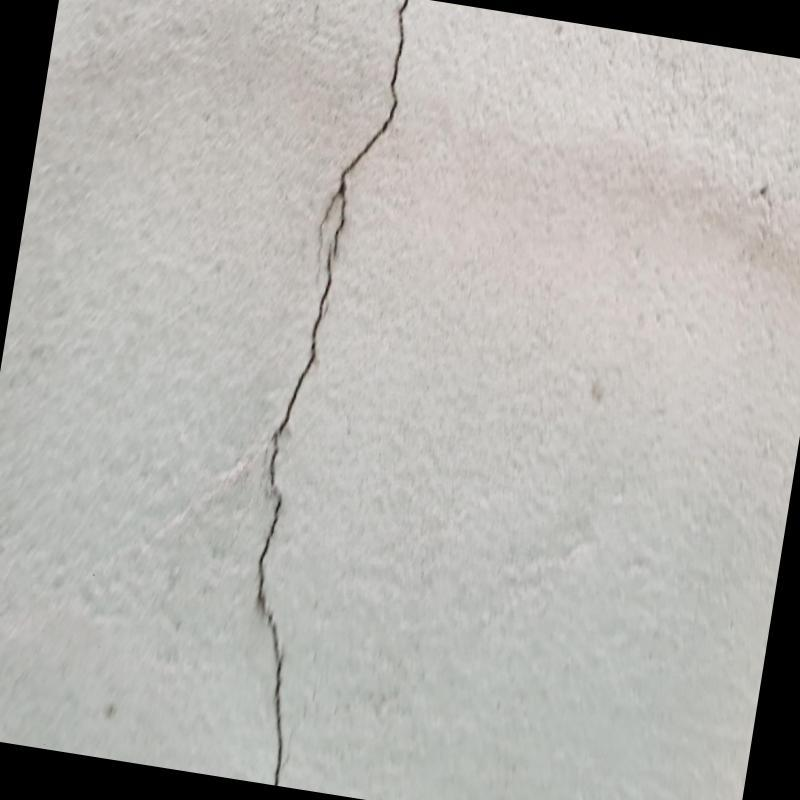pothole: (255, 0, 411, 782)
